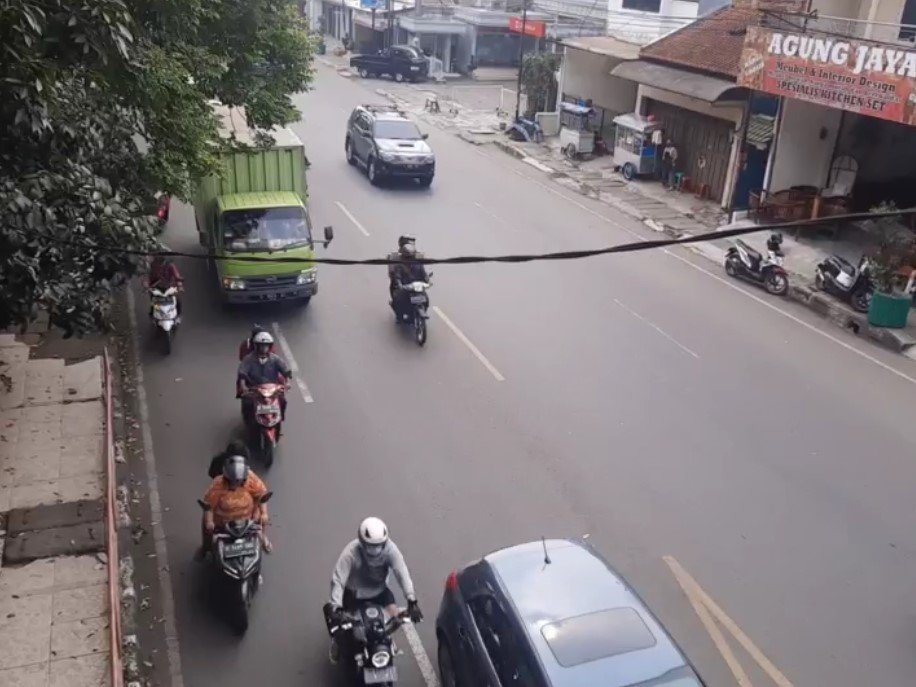mobil: (211, 203, 319, 317), (365, 118, 435, 190)
motor: (312, 502, 424, 687), (190, 460, 288, 635), (207, 325, 307, 472), (383, 237, 442, 356), (132, 252, 186, 355)
